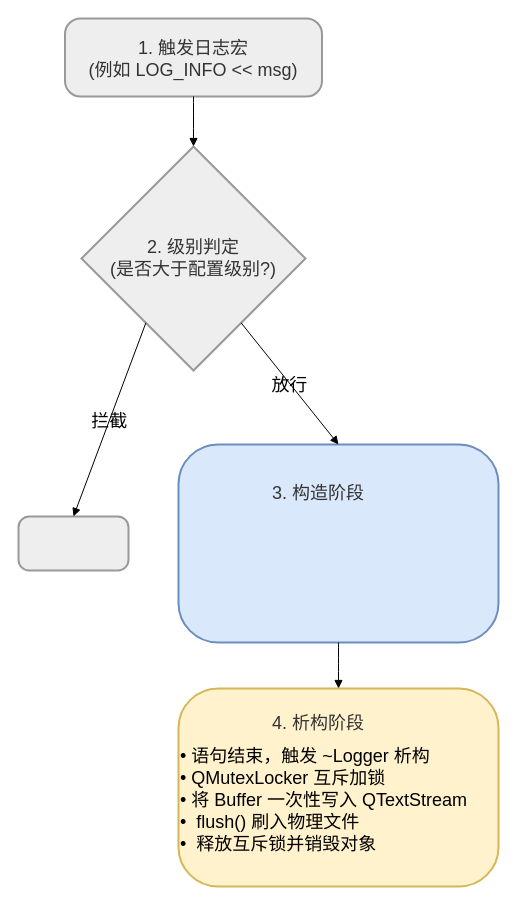
Some shapes in this 516 by 904 pixel diagram are drawn without their labels. The shapes that lost their labels are listed below. From the top down, each one's box as (x1, y1, x2, y2) in pixels, then its label:
(17, 515, 129, 571): 丢弃不处理
(177, 443, 499, 643): • 创建临时 Logger 对象 • 捕获上下文 (时间/文件名/函数名/行号) • 将格式化文本写入Buffer
